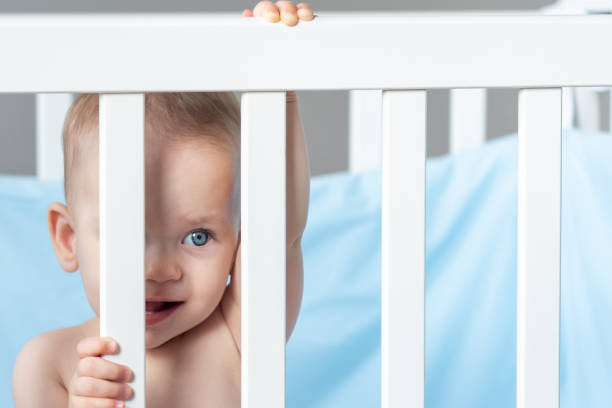baby: (145, 92, 240, 407)
crib: (0, 13, 611, 407)
